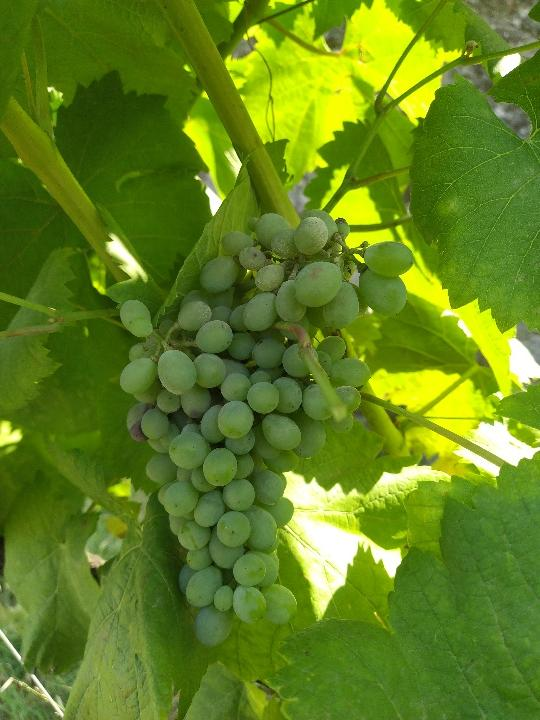grape: (115, 207, 420, 652), (441, 45, 482, 86)
